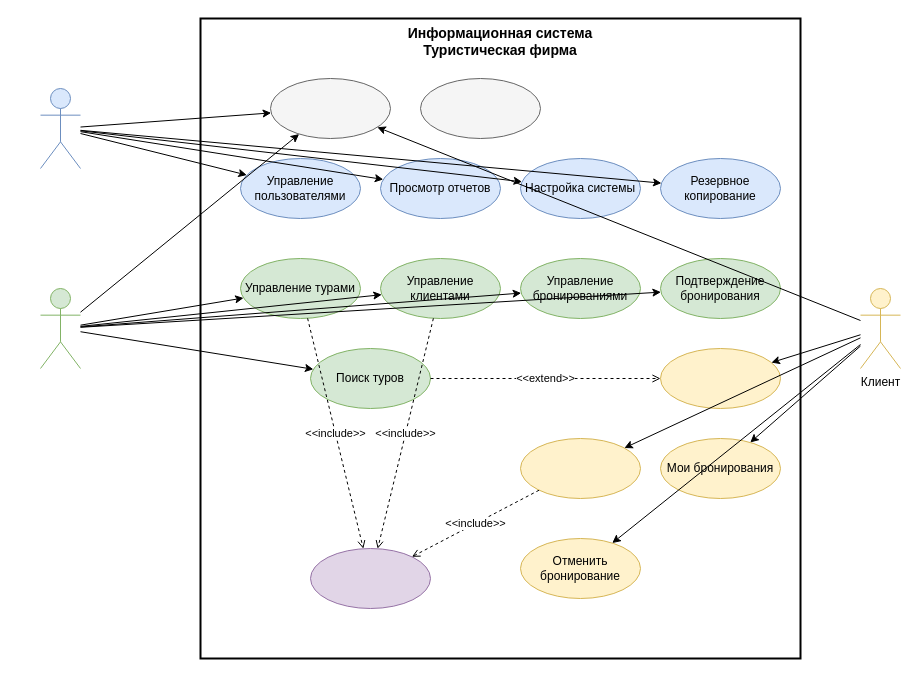
This 918x676 diagram has some shape labels left out. Here are the shapes that lost their labels. From the top down, the centre of each, then its label:
At pixel 60 128: "Администратор".
At pixel 330 108: "Войти в систему".
At pixel 480 108: "Выйти из системы".
At pixel 60 328: "Менеджер".
At pixel 720 378: "Просмотр туров".
At pixel 580 468: "Создать бронирование".
At pixel 370 578: "Валидация данных".
